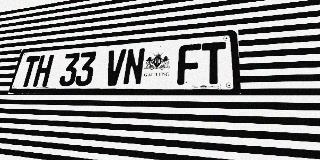3: (74, 51, 97, 86), (58, 52, 81, 86)
F: (177, 43, 201, 85)
H: (32, 54, 54, 87)
N: (122, 48, 146, 85)
T: (201, 42, 227, 84), (19, 56, 40, 87)
V: (103, 49, 127, 86)
